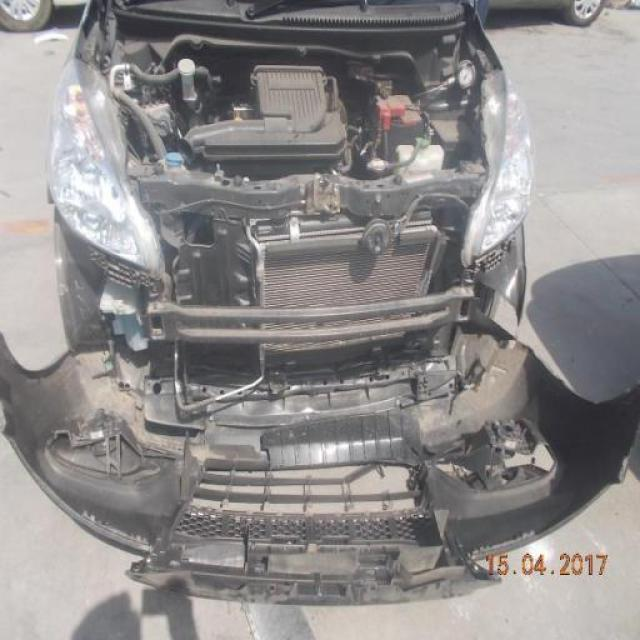crush: (0, 61, 630, 588)
